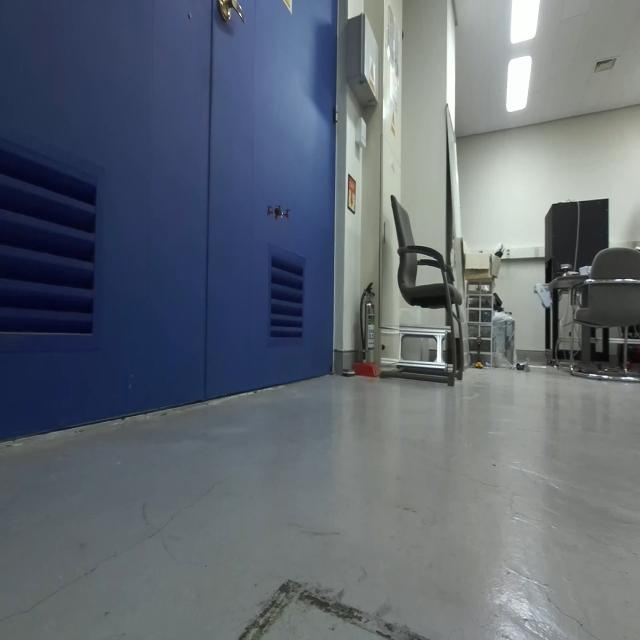crazyflie: (263, 196, 293, 230)
